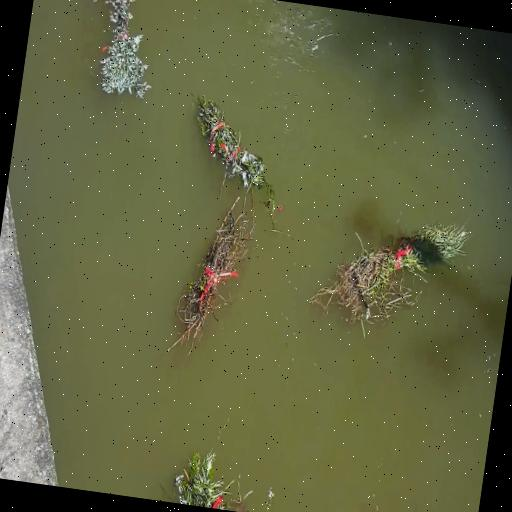twig: (308, 220, 469, 337), (167, 198, 253, 353), (196, 96, 274, 204), (99, 0, 150, 98), (174, 451, 251, 510)
